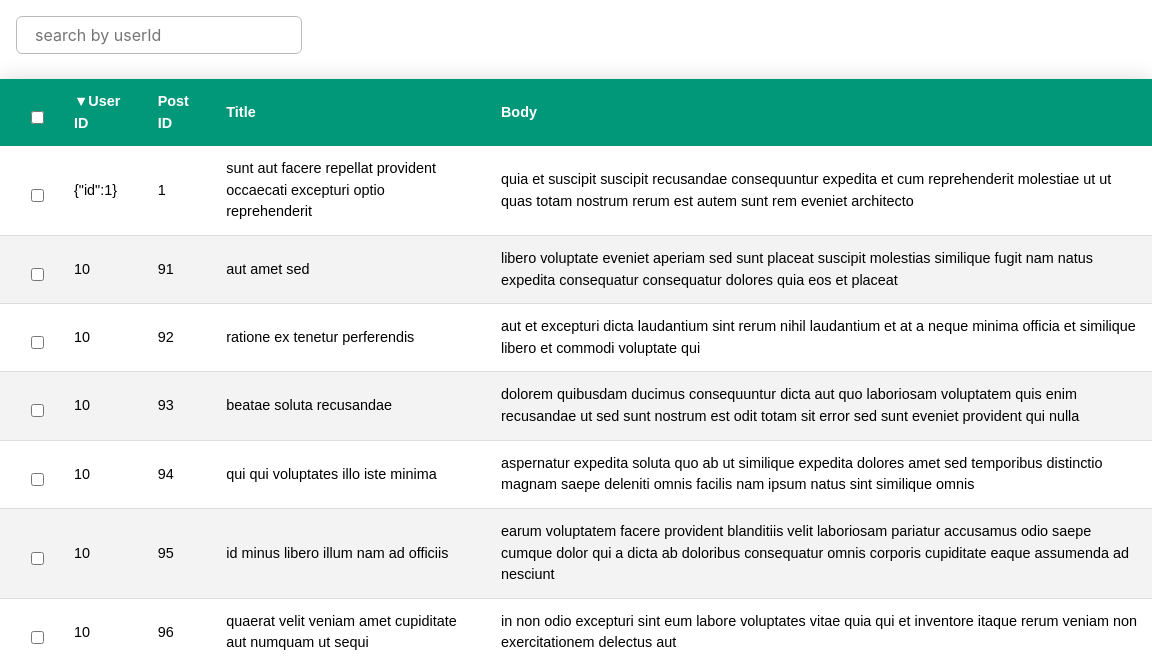
Test: renders rows correctly when searching
The width and height of the screenshot is (1152, 660).
Click the checkbox titled "checkbox-all": (38, 117) [31,111,44,124]
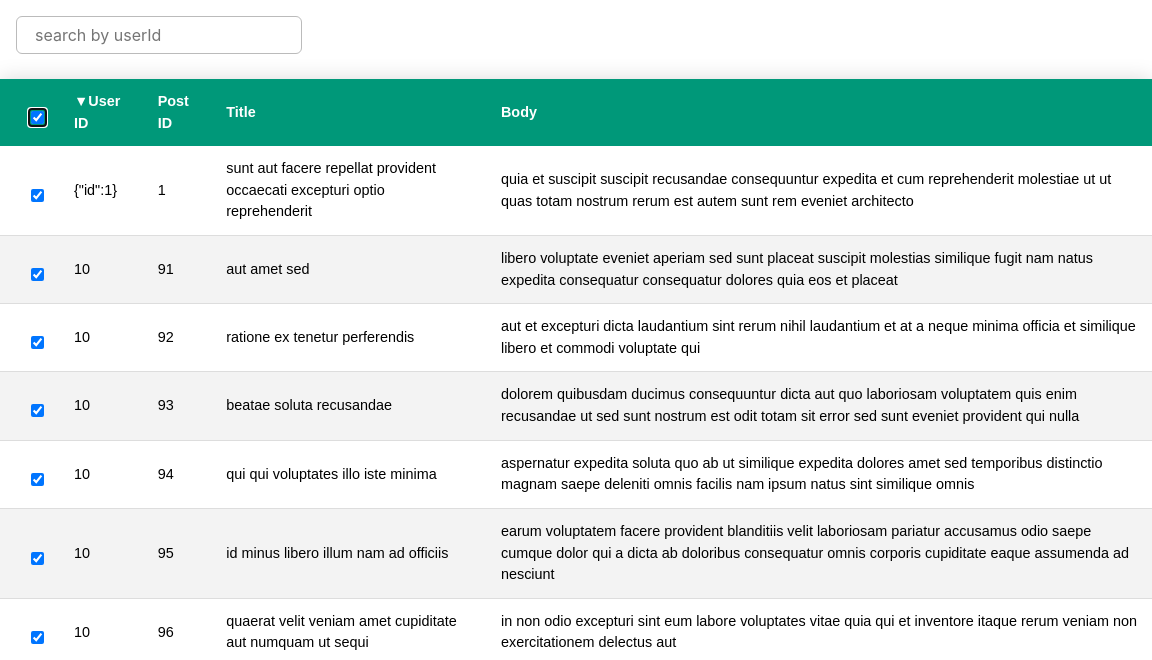
In the field titled "search": (159, 35) [16,16,302,54], type "10"
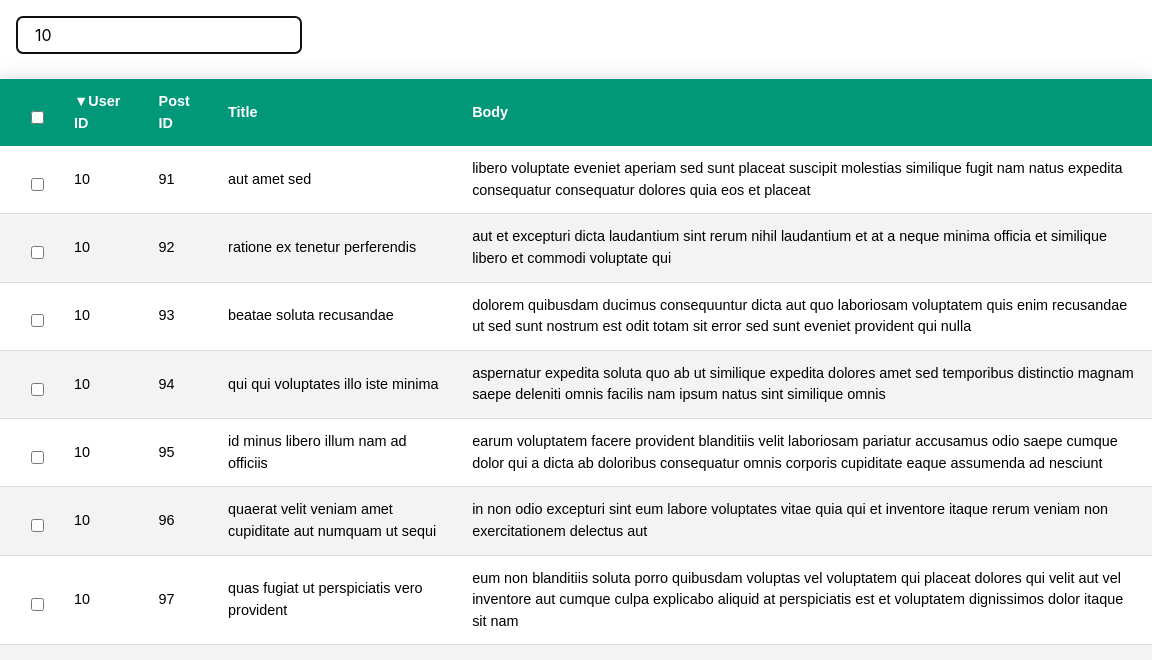
Expected: the cell titled "cell" reads "91", [159,171,175,187]
